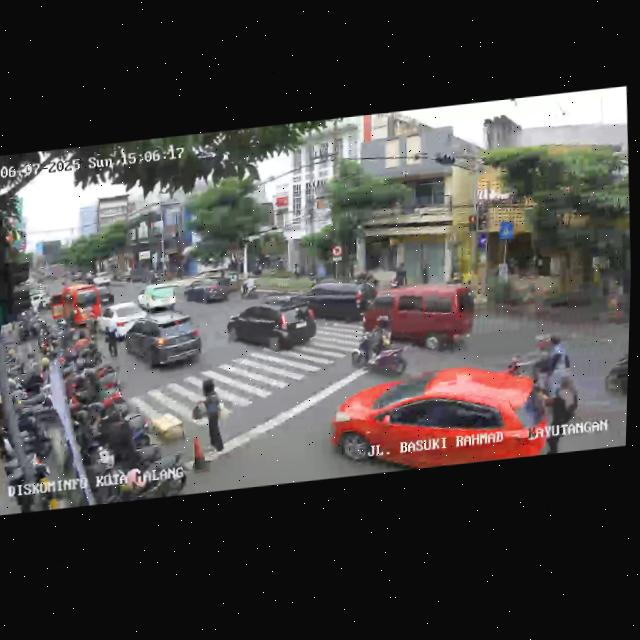car: (325, 356, 557, 478), (378, 277, 477, 361), (224, 291, 320, 360), (121, 310, 205, 376), (286, 275, 379, 329), (49, 282, 101, 333), (97, 297, 147, 341), (185, 273, 235, 309), (138, 280, 186, 316), (98, 284, 116, 310)
motorcycle: (500, 330, 576, 405), (350, 315, 410, 384), (237, 273, 263, 300)
person: (542, 371, 585, 454), (194, 375, 229, 461), (103, 319, 120, 363)
